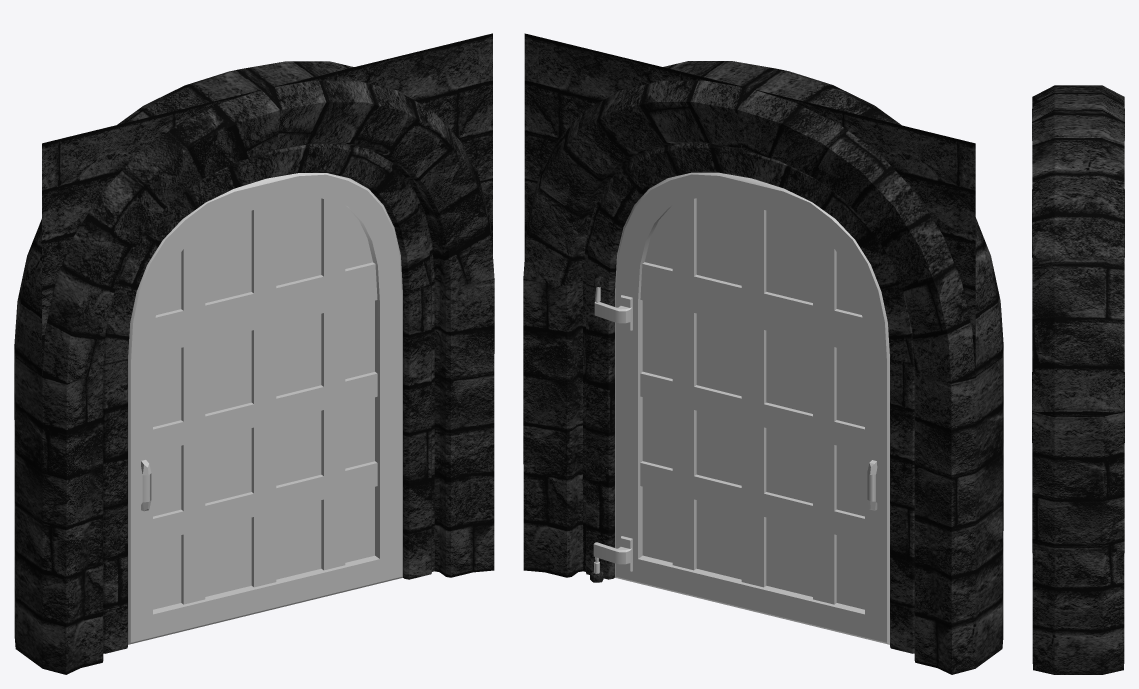
The model's file is Castle Door (Internal).FBX.
The picture shows the model from 3 angles, left to right: view 1: azimuth 30°, elevation 25°; view 2: azimuth 150°, elevation 25°; view 3: azimuth 270°, elevation 25°; orthographic projection. The views are drawn at different scales.
Parts seen in each view (by area): view 1: Door Wall, Door, Wall Plane 003; view 2: Door Wall, Door, Wall Plane 004, Hinge; view 3: Door Wall.
Part boxes in pixels (x1,y1,x2,y2): Door Wall: (14, 61, 494, 674); Door: (128, 173, 402, 644); Wall Plane 003: (42, 33, 492, 375); Door Wall: (523, 61, 1003, 674); Door: (615, 172, 889, 644); Wall Plane 004: (524, 33, 975, 375); Hinge: (593, 287, 632, 573); Door Wall: (1032, 85, 1124, 674).
Size of the model in its own units: 64.21 by 71.6 by 12.91.
